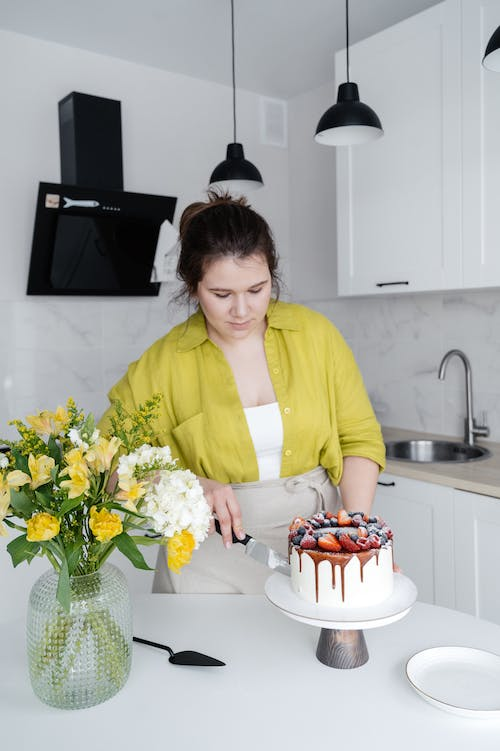knife: (211, 516, 294, 578)
